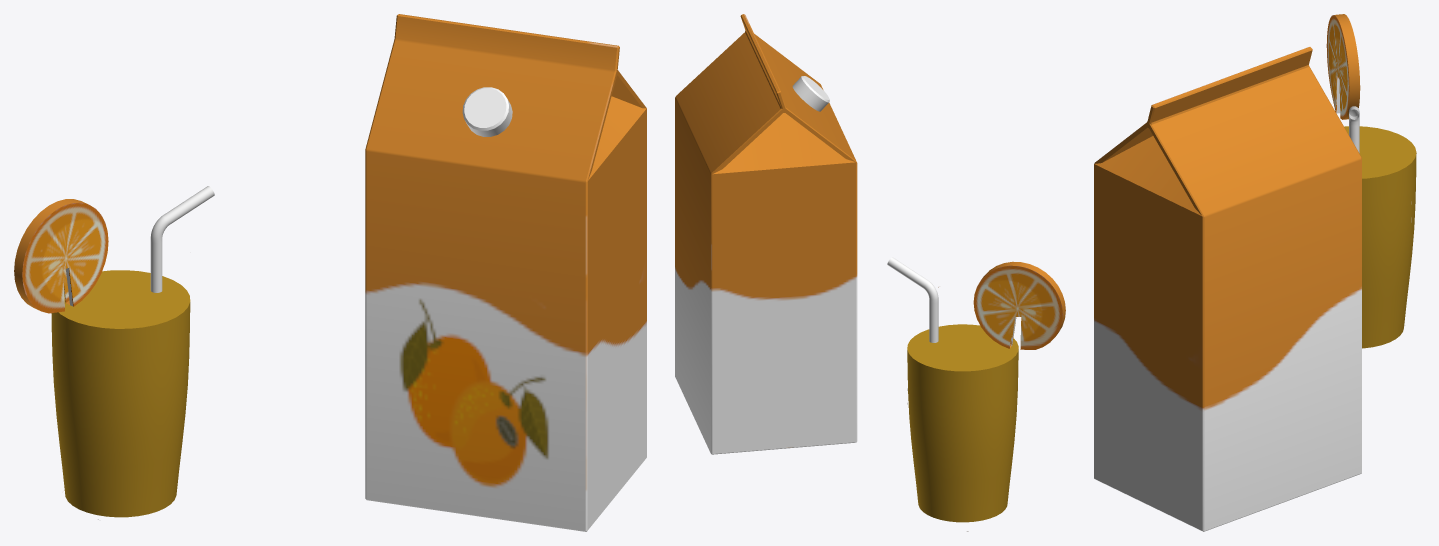
Rendered from Juice.fbx.
3 views of the same model, side by side, from view 1: azimuth 30°, elevation 25°; view 2: azimuth 150°, elevation 25°; view 3: azimuth 270°, elevation 25° (orthographic). The views are drawn at different scales.
Parts seen in each view (by area): view 1: Cylinder, Cylinder.001; view 2: Cylinder, Cylinder.001; view 3: Cylinder, Cylinder.001.
Boxes of the visible parts, <box> form: Cylinder: <box>51,14,646,531</box>; Cylinder.001: <box>14,199,108,313</box>; Cylinder: <box>675,14,1018,522</box>; Cylinder.001: <box>973,261,1065,349</box>; Cylinder: <box>1094,47,1416,531</box>; Cylinder.001: <box>1326,14,1360,119</box>.
Bounding box in the file's own units: 875 × 669 × 499.
